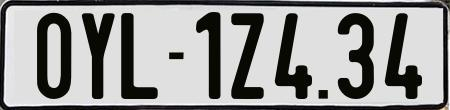0: (34, 12, 74, 101)
1: (195, 11, 221, 99)
3: (336, 11, 372, 98)
4: (384, 13, 422, 102), (273, 10, 310, 96)
L: (120, 10, 162, 101)
Y: (82, 11, 118, 100)
Z: (230, 10, 268, 102)
